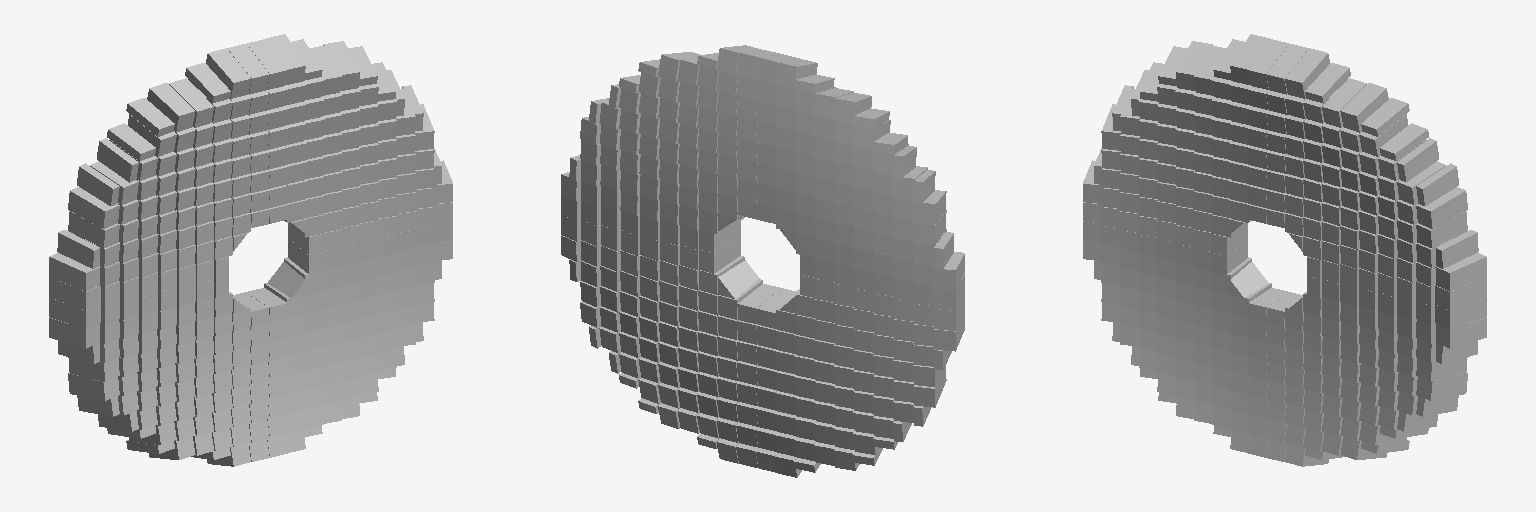
Rendered from EEminus.obj.
3 views of the same model, side by side, from view 1: azimuth 30°, elevation 25°; view 2: azimuth 150°, elevation 25°; view 3: azimuth 330°, elevation 25° (orthographic).
Parts seen in each view (by area): view 1: Mesh553 eregalgo_EESCEnv1_materials_Air247 lp_eregalgo_EESCEnv1_, Mesh605 eregalgo_EESCEnv1_materials_Air273 lp_eregalgo_EESCEnv1_, Mesh609 eregalgo_EESCEnv1_materials_Air275 lp_eregalgo_EESCEnv1_, Mesh501 eregalgo_EESCEnv1_materials_Air221 lp_eregalgo_EESCEnv1_, Mesh619 eregalgo_EESCEnv3_materials_Air10 lp_eregalgo_EESCEnv3_1, Mesh621 eregalgo_EESCEnv3_materials_Air11 lp_eregalgo_EESCEnv3_1, Mesh617 eregalgo_EESCEnv3_materials_Air9 lp_eregalgo_EESCEnv3_10, Mesh611 eregalgo_EESCEnv2_materials_Air9 lp_eregalgo_EESCEnv2_10, Mesh607 eregalgo_EESCEnv1_materials_Air274 lp_eregalgo_EESCEnv1_, Mesh451 eregalgo_EESCEnv1_materials_Air205 lp_eregalgo_EESCEnv1_, Mesh613 eregalgo_EESCEnv2_materials_Air10 lp_eregalgo_EESCEnv2_1, Mesh603 eregalgo_EESCEnv1_materials_Air272 lp_eregalgo_EESCEnv1_ (+26 smaller); view 2: Mesh157 eregalgo_EESCEnv5_materials_Air1 lp_eregalgo_EESCEnv5_2 , Mesh501 eregalgo_EESCEnv1_materials_Air221 lp_eregalgo_EESCEnv1_, Mesh609 eregalgo_EESCEnv1_materials_Air275 lp_eregalgo_EESCEnv1_, Mesh553 eregalgo_EESCEnv1_materials_Air247 lp_eregalgo_EESCEnv1_, Mesh159 eregalgo_EESCEnv6_materials_Air1 lp_eregalgo_EESCEnv6_2 , Mesh605 eregalgo_EESCEnv1_materials_Air273 lp_eregalgo_EESCEnv1_, Mesh311 eregalgo_EESCEnv4_materials_Air1 lp_eregalgo_EESCEnv4_2 , Mesh3 eregalgo_EESCEnv6_materials_Air lp_eregalgo_EESCEnv6_1 lp_, Mesh467 eregalgo_EESCEnv4_materials_Air2 lp_eregalgo_EESCEnv4_3 , Mesh603 eregalgo_EESCEnv1_materials_Air272 lp_eregalgo_EESCEnv1_, Mesh449 eregalgo_EESCEnv1_materials_Air204 lp_eregalgo_EESCEnv1_, Mesh535 eregalgo_EESCEnv1_materials_Air238 lp_eregalgo_EESCEnv1_ (+17 smaller); view 3: Mesh85 eregalgo_EESCEnv1_materials_Air40 lp_eregalgo_EESCEnv1_41, Mesh137 eregalgo_EESCEnv1_materials_Air66 lp_eregalgo_EESCEnv1_6, Mesh141 eregalgo_EESCEnv1_materials_Air68 lp_eregalgo_EESCEnv1_6, Mesh33 eregalgo_EESCEnv1_materials_Air14 lp_eregalgo_EESCEnv1_15, Mesh151 eregalgo_EESCEnv3_materials_Air1 lp_eregalgo_EESCEnv3_2 , Mesh153 eregalgo_EESCEnv3_materials_Air2 lp_eregalgo_EESCEnv3_3 , Mesh149 eregalgo_EESCEnv3_materials_Air lp_eregalgo_EESCEnv3_1 l, Mesh143 eregalgo_EESCEnv2_materials_Air lp_eregalgo_EESCEnv2_1 l, Mesh139 eregalgo_EESCEnv1_materials_Air67 lp_eregalgo_EESCEnv1_6, Mesh145 eregalgo_EESCEnv2_materials_Air1 lp_eregalgo_EESCEnv2_2 , Mesh295 eregalgo_EESCEnv1_materials_Air136 lp_eregalgo_EESCEnv1_, Mesh135 eregalgo_EESCEnv1_materials_Air65 lp_eregalgo_EESCEnv1_6 (+26 smaller).
Boxes of the visible parts, <box> form: Mesh553 eregalgo_EESCEnv1_materials_Air247 lp_eregalgo_EESCEnv1_: <box>147,83,195,132</box>; Mesh605 eregalgo_EESCEnv1_materials_Air273 lp_eregalgo_EESCEnv1_: <box>68,187,119,228</box>; Mesh609 eregalgo_EESCEnv1_materials_Air275 lp_eregalgo_EESCEnv1_: <box>49,253,100,291</box>; Mesh501 eregalgo_EESCEnv1_materials_Air221 lp_eregalgo_EESCEnv1_: <box>206,48,250,98</box>; Mesh619 eregalgo_EESCEnv3_materials_Air10 lp_eregalgo_EESCEnv3_1: <box>77,163,119,205</box>; Mesh621 eregalgo_EESCEnv3_materials_Air11 lp_eregalgo_EESCEnv3_1: <box>57,230,99,268</box>; Mesh617 eregalgo_EESCEnv3_materials_Air9 lp_eregalgo_EESCEnv3_10: <box>97,138,138,182</box>; Mesh611 eregalgo_EESCEnv2_materials_Air9 lp_eregalgo_EESCEnv2_10: <box>185,63,230,103</box>; Mesh607 eregalgo_EESCEnv1_materials_Air274 lp_eregalgo_EESCEnv1_: <box>49,277,100,310</box>; Mesh451 eregalgo_EESCEnv1_materials_Air205 lp_eregalgo_EESCEnv1_: <box>49,297,100,329</box>; Mesh613 eregalgo_EESCEnv2_materials_Air10 lp_eregalgo_EESCEnv2_1: <box>126,98,174,136</box>; Mesh603 eregalgo_EESCEnv1_materials_Air272 lp_eregalgo_EESCEnv1_: <box>68,211,119,248</box>; Mesh157 eregalgo_EESCEnv5_materials_Air1 lp_eregalgo_EESCEnv5_2 : <box>718,260,759,298</box>; Mesh501 eregalgo_EESCEnv1_materials_Air221 lp_eregalgo_EESCEnv1_: <box>775,59,817,87</box>; Mesh609 eregalgo_EESCEnv1_materials_Air275 lp_eregalgo_EESCEnv1_: <box>934,252,964,290</box>; Mesh553 eregalgo_EESCEnv1_materials_Air247 lp_eregalgo_EESCEnv1_: <box>833,93,871,123</box>; Mesh159 eregalgo_EESCEnv6_materials_Air1 lp_eregalgo_EESCEnv6_2 : <box>699,237,740,273</box>; Mesh605 eregalgo_EESCEnv1_materials_Air273 lp_eregalgo_EESCEnv1_: <box>913,190,946,224</box>; Mesh311 eregalgo_EESCEnv4_materials_Air1 lp_eregalgo_EESCEnv4_2 : <box>737,284,780,323</box>; Mesh3 eregalgo_EESCEnv6_materials_Air lp_eregalgo_EESCEnv6_1 lp_: <box>699,221,740,253</box>; Mesh467 eregalgo_EESCEnv4_materials_Air2 lp_eregalgo_EESCEnv4_3 : <box>757,288,795,328</box>; Mesh603 eregalgo_EESCEnv1_materials_Air272 lp_eregalgo_EESCEnv1_: <box>913,210,946,245</box>; Mesh449 eregalgo_EESCEnv1_materials_Air204 lp_eregalgo_EESCEnv1_: <box>913,366,946,407</box>; Mesh535 eregalgo_EESCEnv1_materials_Air238 lp_eregalgo_EESCEnv1_: <box>814,88,853,118</box>; Mesh85 eregalgo_EESCEnv1_materials_Air40 lp_eregalgo_EESCEnv1_41: <box>1340,83,1388,132</box>; Mesh137 eregalgo_EESCEnv1_materials_Air66 lp_eregalgo_EESCEnv1_6: <box>1416,187,1467,228</box>; Mesh141 eregalgo_EESCEnv1_materials_Air68 lp_eregalgo_EESCEnv1_6: <box>1435,253,1486,291</box>; Mesh33 eregalgo_EESCEnv1_materials_Air14 lp_eregalgo_EESCEnv1_15: <box>1285,48,1329,98</box>; Mesh151 eregalgo_EESCEnv3_materials_Air1 lp_eregalgo_EESCEnv3_2 : <box>1416,163,1458,205</box>; Mesh153 eregalgo_EESCEnv3_materials_Air2 lp_eregalgo_EESCEnv3_3 : <box>1436,230,1478,268</box>; Mesh149 eregalgo_EESCEnv3_materials_Air lp_eregalgo_EESCEnv3_1 l: <box>1397,138,1438,182</box>; Mesh143 eregalgo_EESCEnv2_materials_Air lp_eregalgo_EESCEnv2_1 l: <box>1305,63,1350,103</box>; Mesh139 eregalgo_EESCEnv1_materials_Air67 lp_eregalgo_EESCEnv1_6: <box>1435,277,1486,310</box>; Mesh145 eregalgo_EESCEnv2_materials_Air1 lp_eregalgo_EESCEnv2_2 : <box>1361,98,1409,136</box>; Mesh295 eregalgo_EESCEnv1_materials_Air136 lp_eregalgo_EESCEnv1_: <box>1435,297,1486,329</box>; Mesh135 eregalgo_EESCEnv1_materials_Air65 lp_eregalgo_EESCEnv1_6: <box>1416,211,1467,248</box>.
Size of the model in its own units: 3.21 by 3.19 by 0.3916.